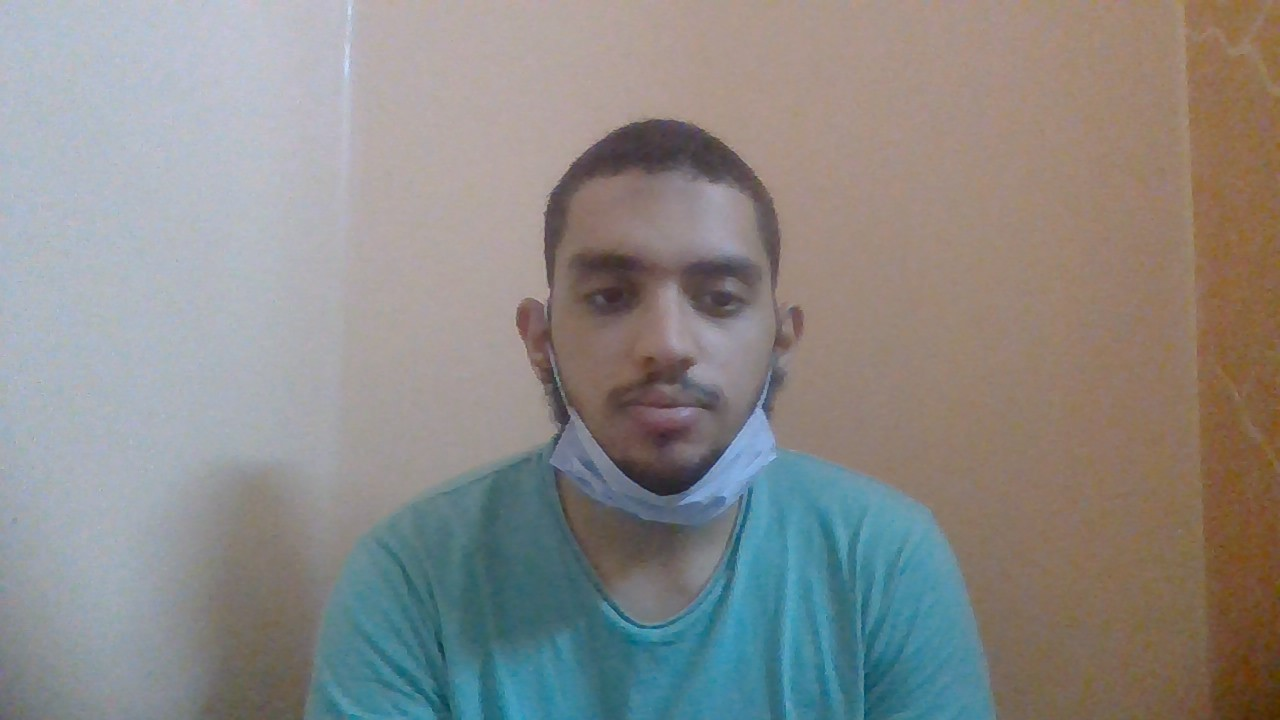Nomask: (545, 308, 779, 521)
